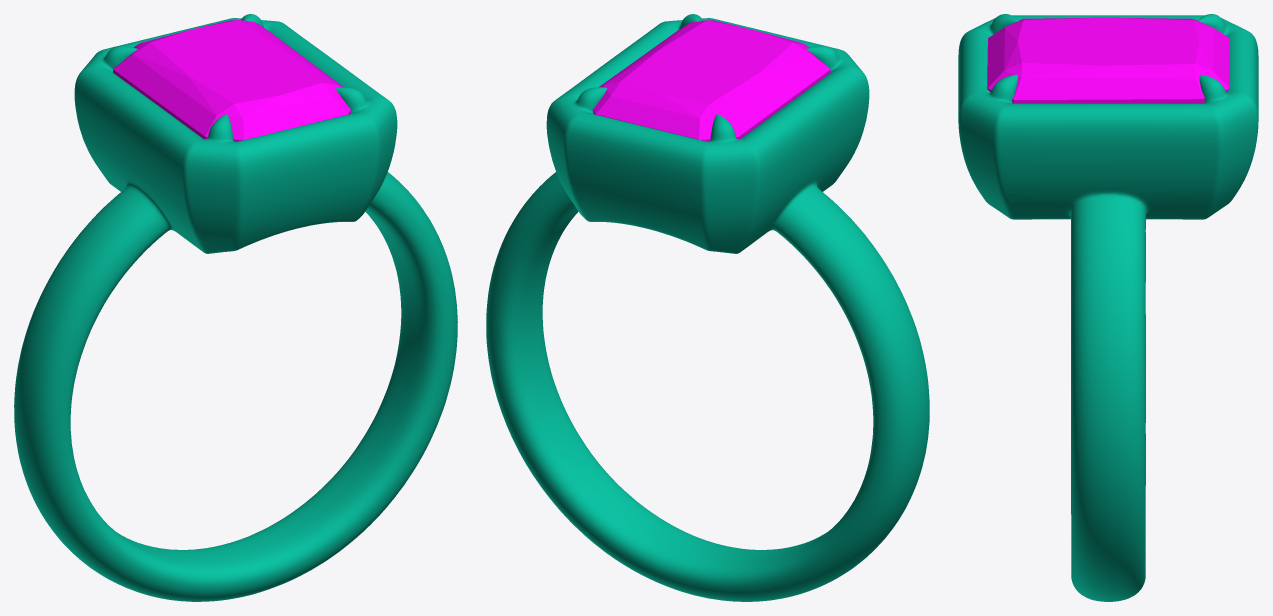
Rendered from BE1D1009_RA_200ct_RENDER.glb.
The picture shows the model from 3 angles, left to right: view 1: azimuth 30°, elevation 25°; view 2: azimuth 150°, elevation 25°; view 3: azimuth 270°, elevation 25°; orthographic projection.
Visible parts, largest first — view 1: Metal 01, CS_Diamond_Radiant; view 2: Metal 01, CS_Diamond_Radiant; view 3: Metal 01, CS_Diamond_Radiant.
Boxes of the visible parts, box(x1,y1,x2,y2) form: Metal 01: box(14, 14, 457, 601); CS_Diamond_Radiant: box(113, 20, 350, 141); Metal 01: box(486, 14, 929, 601); CS_Diamond_Radiant: box(592, 20, 830, 141); Metal 01: box(958, 14, 1258, 601); CS_Diamond_Radiant: box(987, 17, 1229, 103).
Bounding box in the file's own units: 20.09 × 23.7 × 12.
